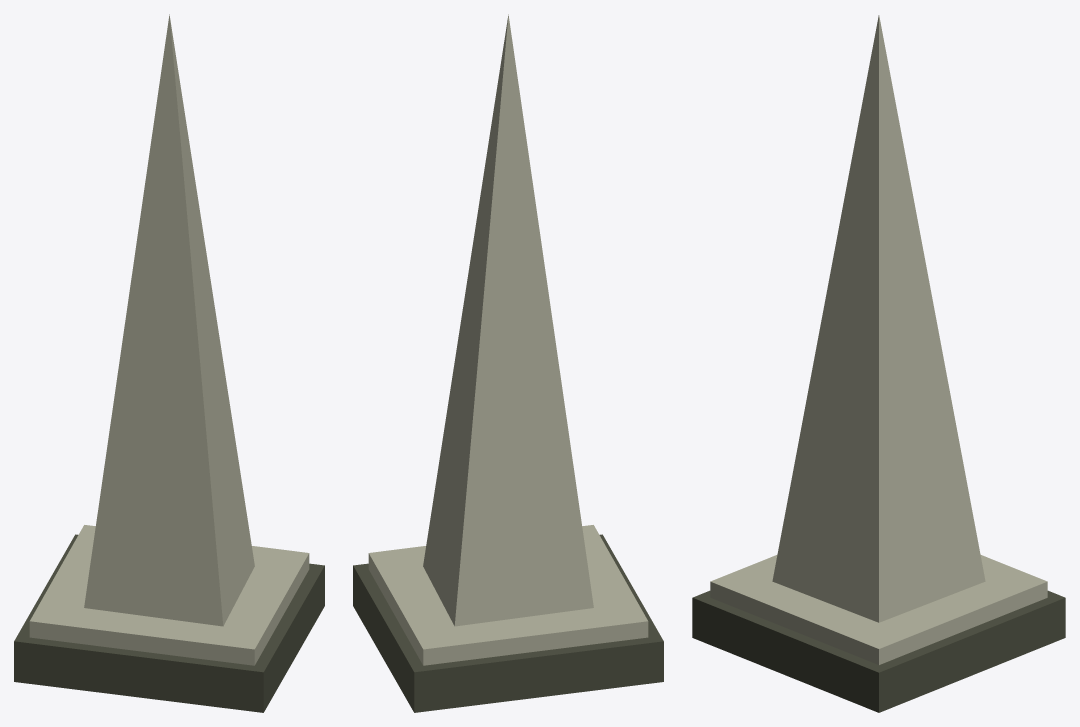
The model's file is vge_mech_info_spire.obj.
3 views of the same model, side by side, from view 1: azimuth 30°, elevation 25°; view 2: azimuth 150°, elevation 25°; view 3: azimuth 270°, elevation 25° (orthographic).
Parts seen in each view (by area): view 1: vge_mech_info_spire_2, vge_mech_info_spire_0, vge_mech_info_spire_1; view 2: vge_mech_info_spire_2, vge_mech_info_spire_0, vge_mech_info_spire_1; view 3: vge_mech_info_spire_2, vge_mech_info_spire_0, vge_mech_info_spire_1.
Boxes of the visible parts, box(x1,y1,x2,y2) form: vge_mech_info_spire_2: box(84, 14, 254, 626); vge_mech_info_spire_0: box(14, 534, 324, 712); vge_mech_info_spire_1: box(29, 525, 309, 665); vge_mech_info_spire_2: box(423, 14, 593, 626); vge_mech_info_spire_0: box(353, 534, 663, 712); vge_mech_info_spire_1: box(368, 525, 648, 665); vge_mech_info_spire_2: box(772, 15, 985, 622); vge_mech_info_spire_0: box(692, 590, 1065, 712); vge_mech_info_spire_1: box(710, 555, 1047, 664).
Size of the model in its own units: 0.8 by 1.55 by 0.84.
